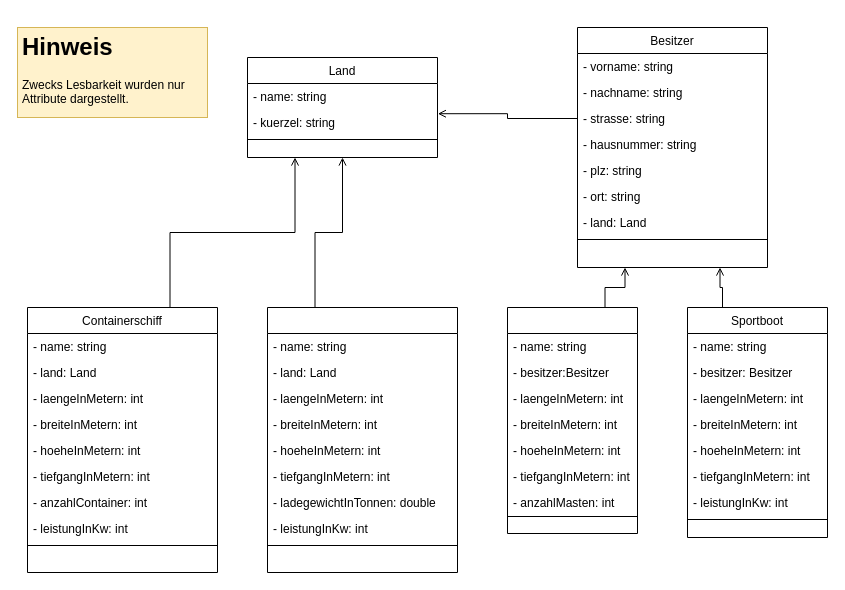
The diagram is 845 pixels wide and 590 high, and some of its shapes have lost their labels. Here are the shapes that lost their labels. From the top down, the box of each, then its label:
(266, 306, 458, 572): Tankschiff
(506, 306, 638, 534): Segelboot
